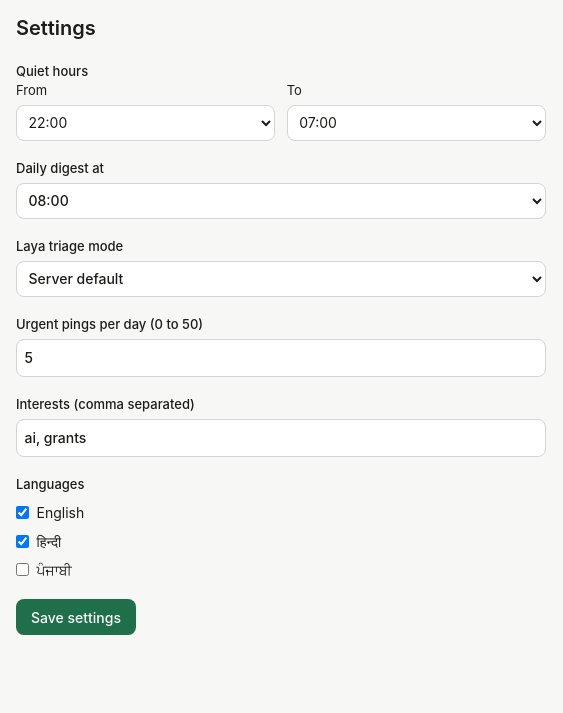
Test: SettingsForm › shows a field error and does not send when the ping cap is out of range
Expected: the heading "Settings" is shown, 16,16 -> 96,40
Replace the text in the field labelled "Urgent pings per day (0 to 50)" with "99" at x=281, y=358, box 16,338 -> 546,376
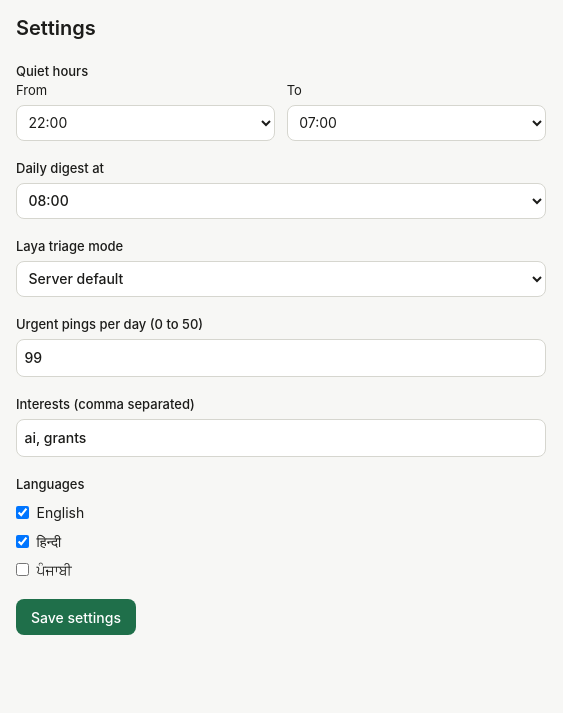
Click the button "Save settings" at x=76, y=617, box 16,599 -> 136,635
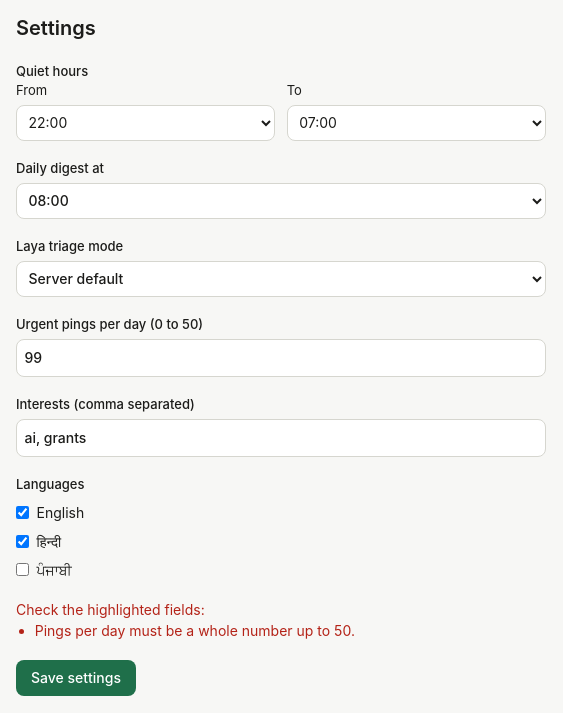
Expected: the message shows "Pings per day must be a whole number up to 50.", 35,622 -> 355,639
